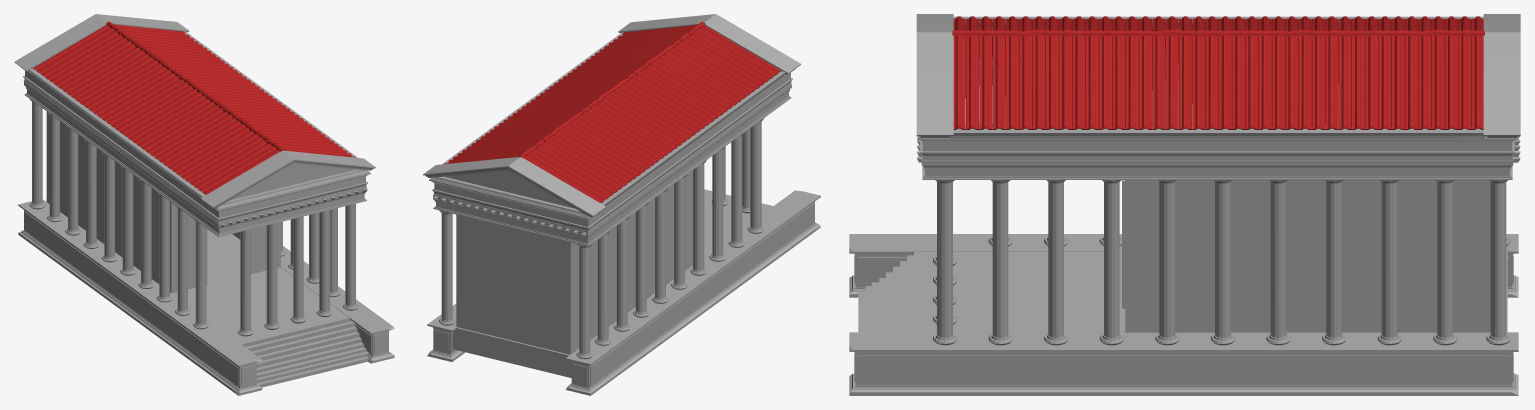
The model's file is SM_temple.FBX.
The picture shows the model from 3 angles, left to right: view 1: azimuth 30°, elevation 25°; view 2: azimuth 150°, elevation 25°; view 3: azimuth 270°, elevation 25°; orthographic projection. The views are drawn at different scales.
Visible parts, largest first — view 1: Object273; view 2: Object273; view 3: Object273.
Part boxes in pixels (<box>): Object273: <box>14,14,394,395</box>; Object273: <box>423,14,820,395</box>; Object273: <box>849,14,1520,395</box>.
Bounding box in the file's own units: 268 × 319 × 629.
